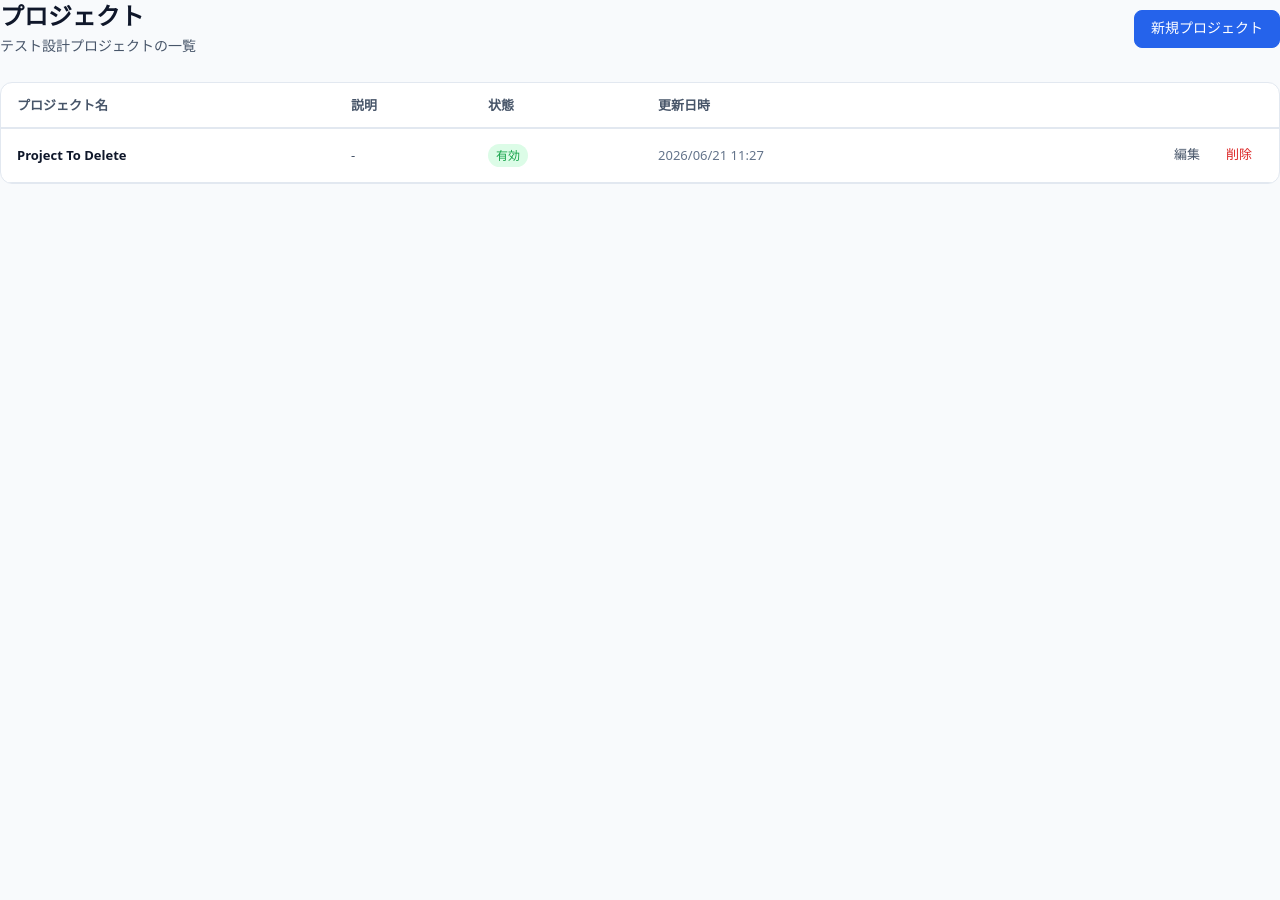
ProjectListPage › deletes a project
This screenshot has width=1280, height=900.
Expected: the text "Project To Delete" is shown, x1=1 y1=128 x2=335 y2=183
Click the button "削除": (1239, 156) x1=1215 y1=141 x2=1263 y2=170
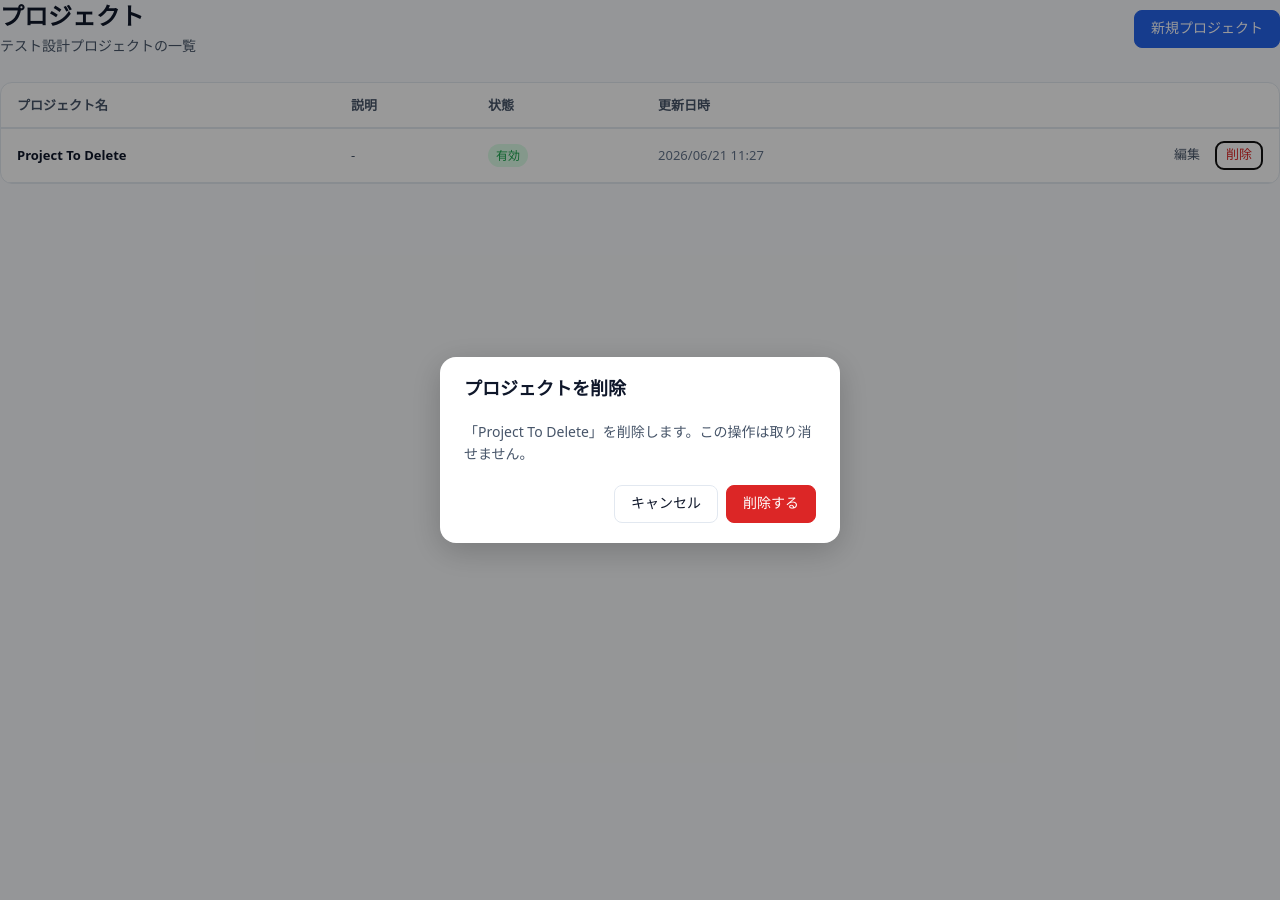
Expected: the dialog is shown, x1=440 y1=357 x2=840 y2=543
Click the button "削除する": (771, 504) x1=726 y1=485 x2=816 y2=523
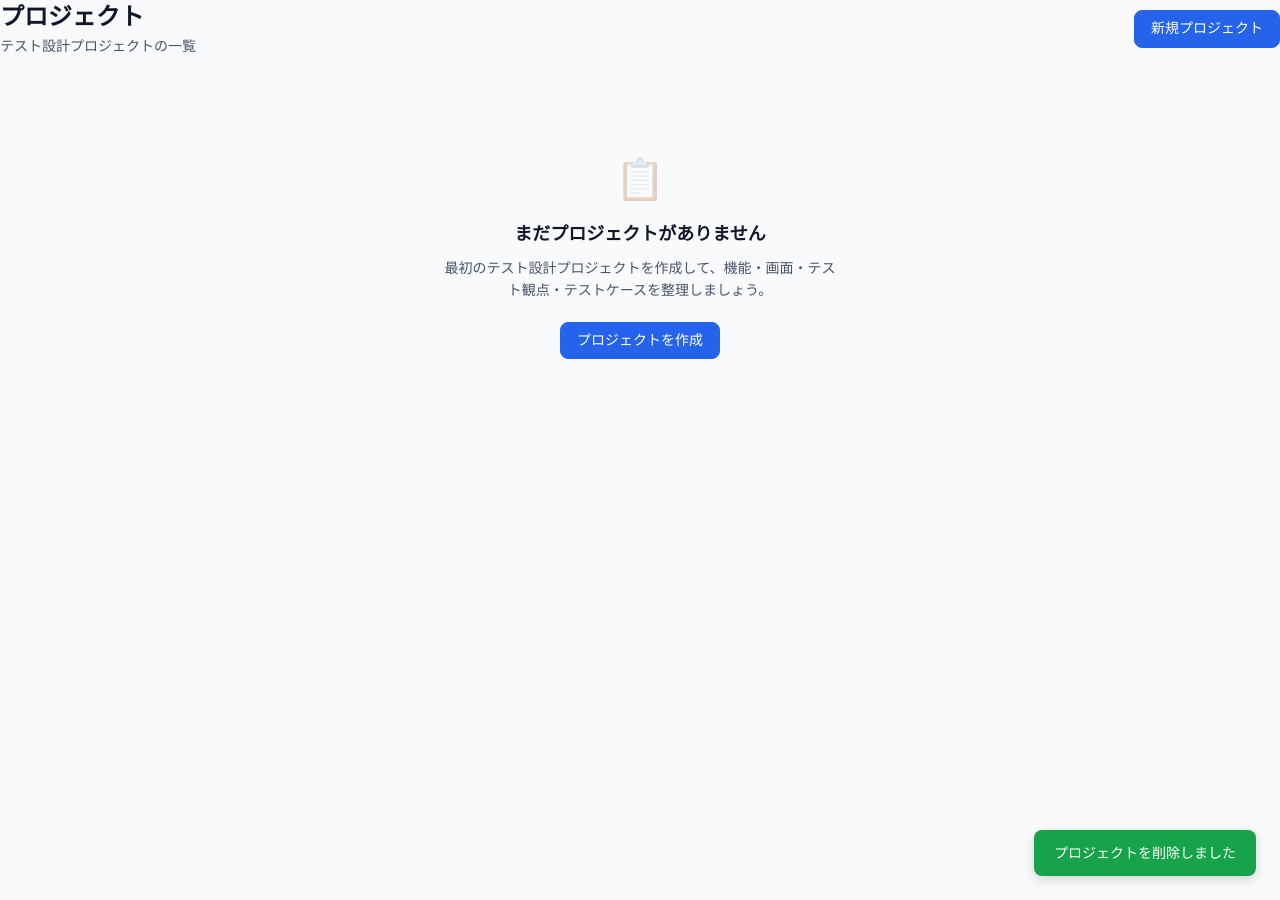
Expected: the text "プロジェクトを削除しました" is shown, x1=1034 y1=830 x2=1256 y2=876
Expected: the heading "まだプロジェクトがありません" is shown, x1=514 y1=222 x2=766 y2=245
